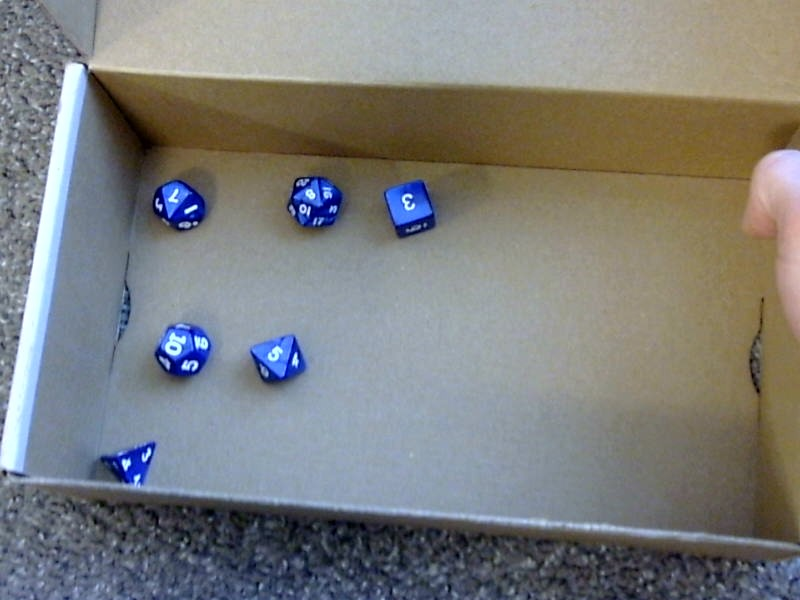d10 7: (146, 169, 213, 236)
d12 10: (153, 317, 213, 379)
d20 8: (283, 169, 346, 233)
d4 4: (99, 435, 162, 491)
d6 3: (381, 174, 438, 240)
d8 5: (248, 328, 309, 388)
